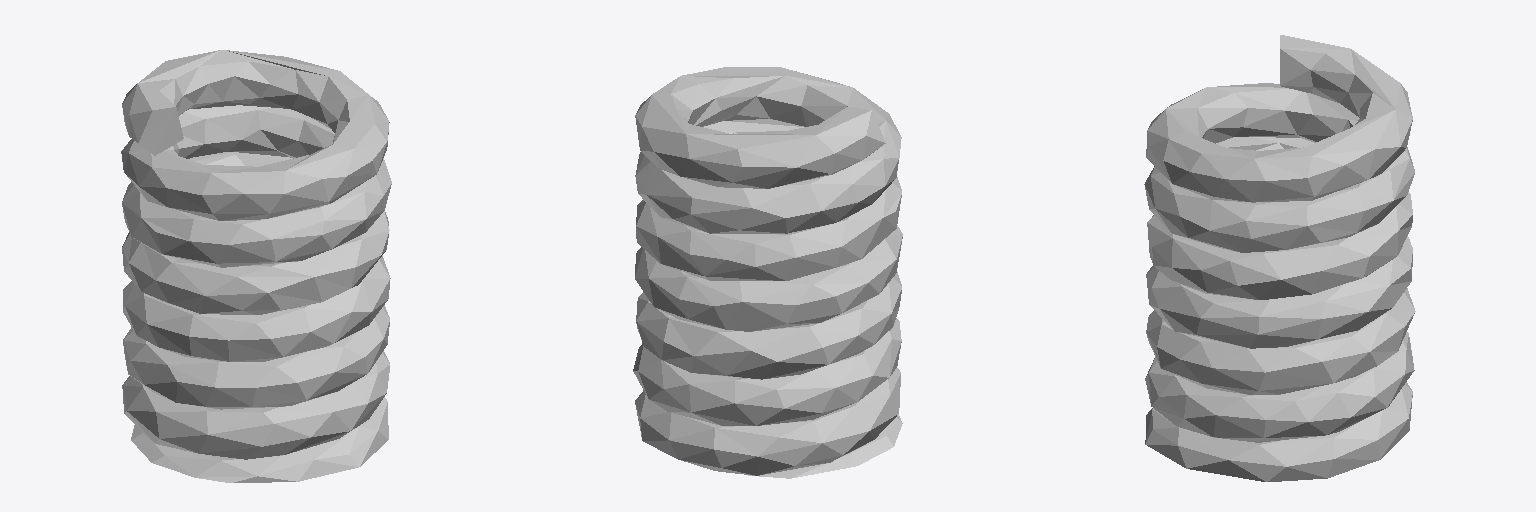
Rendered from block_spring_c.obj.
3 renders of one model, left to right at view 1: azimuth 30°, elevation 25°; view 2: azimuth 150°, elevation 25°; view 3: azimuth 270°, elevation 25°, orthographic.
Parts seen in each view (by area): view 1: Circle; view 2: Circle; view 3: Circle.
Part boxes in pixels (left/top/right/bottom): Circle: left=121, top=50, right=391, bottom=482; Circle: left=633, top=67, right=902, bottom=478; Circle: left=1144, top=35, right=1415, bottom=481.
Size of the model in its own units: 12.67 by 17.56 by 12.63.